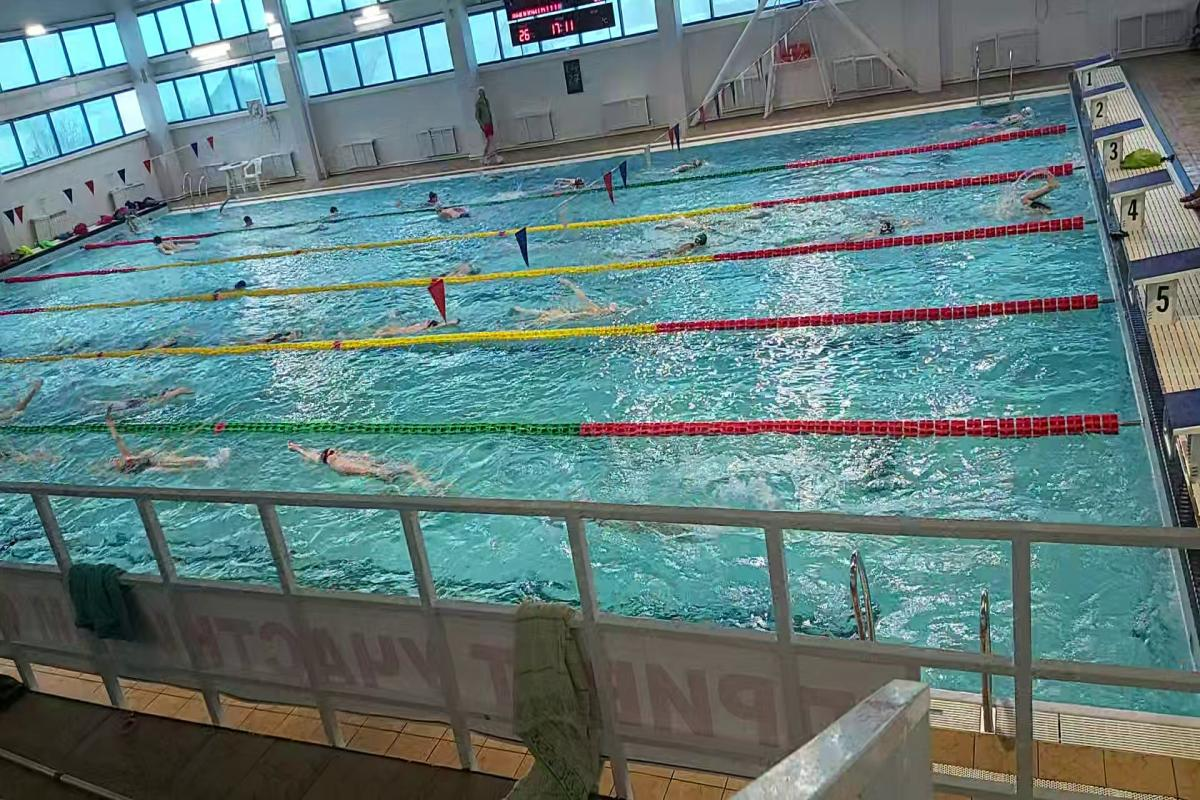swimmer: (280, 432, 458, 492), (94, 426, 230, 477), (510, 275, 628, 329), (86, 375, 202, 417), (370, 302, 466, 336), (1002, 169, 1076, 212), (846, 213, 925, 240), (655, 225, 711, 256), (250, 318, 311, 345), (150, 230, 206, 258), (431, 201, 480, 227)
